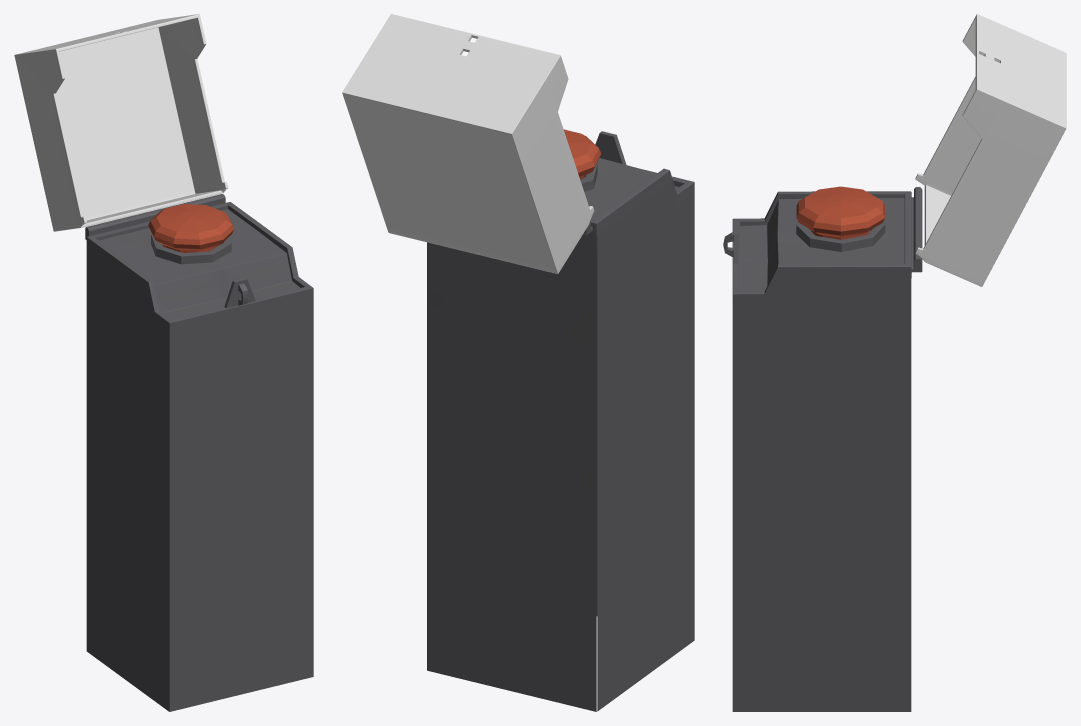
Rendered from jp_boutonouvert.fbx.
The picture shows the model from 3 angles, left to right: view 1: azimuth 30°, elevation 25°; view 2: azimuth 150°, elevation 25°; view 3: azimuth 270°, elevation 25°; orthographic projection. The views are drawn at different scales.
Parts seen in each view (by area): view 1: support4, protection_verre1, buzzer1; view 2: support4, protection_verre1, buzzer1; view 3: support4, protection_verre1, buzzer1.
Boxes of the visible parts, left/top/right/bottom form: support4: left=85, top=194, right=313, bottom=711; protection_verre1: left=14, top=14, right=228, bottom=231; buzzer1: left=148, top=204, right=234, bottom=252; support4: left=427, top=131, right=694, bottom=711; protection_verre1: left=342, top=14, right=594, bottom=274; buzzer1: left=563, top=129, right=601, bottom=179; support4: left=723, top=187, right=922, bottom=711; protection_verre1: left=915, top=14, right=1066, bottom=286; buzzer1: left=796, top=186, right=884, bottom=239.
Size of the model in its own units: 0.8306 by 3.19 by 1.59.
